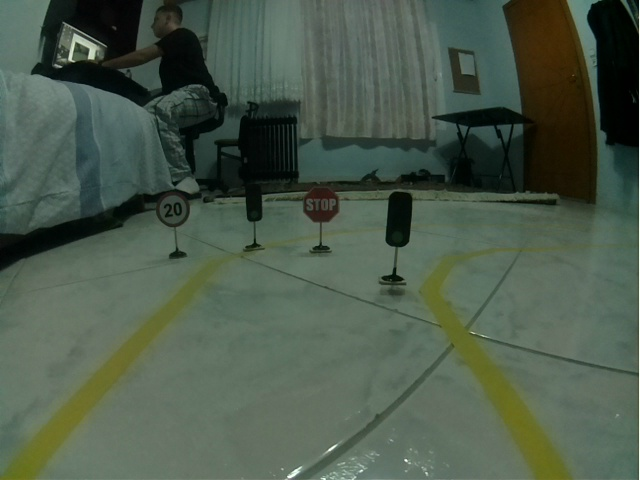Green Traffic Light: (385, 192, 413, 248), (245, 184, 262, 222)
Speed Limit 20: (156, 191, 190, 228)
Stop: (302, 186, 339, 223)
